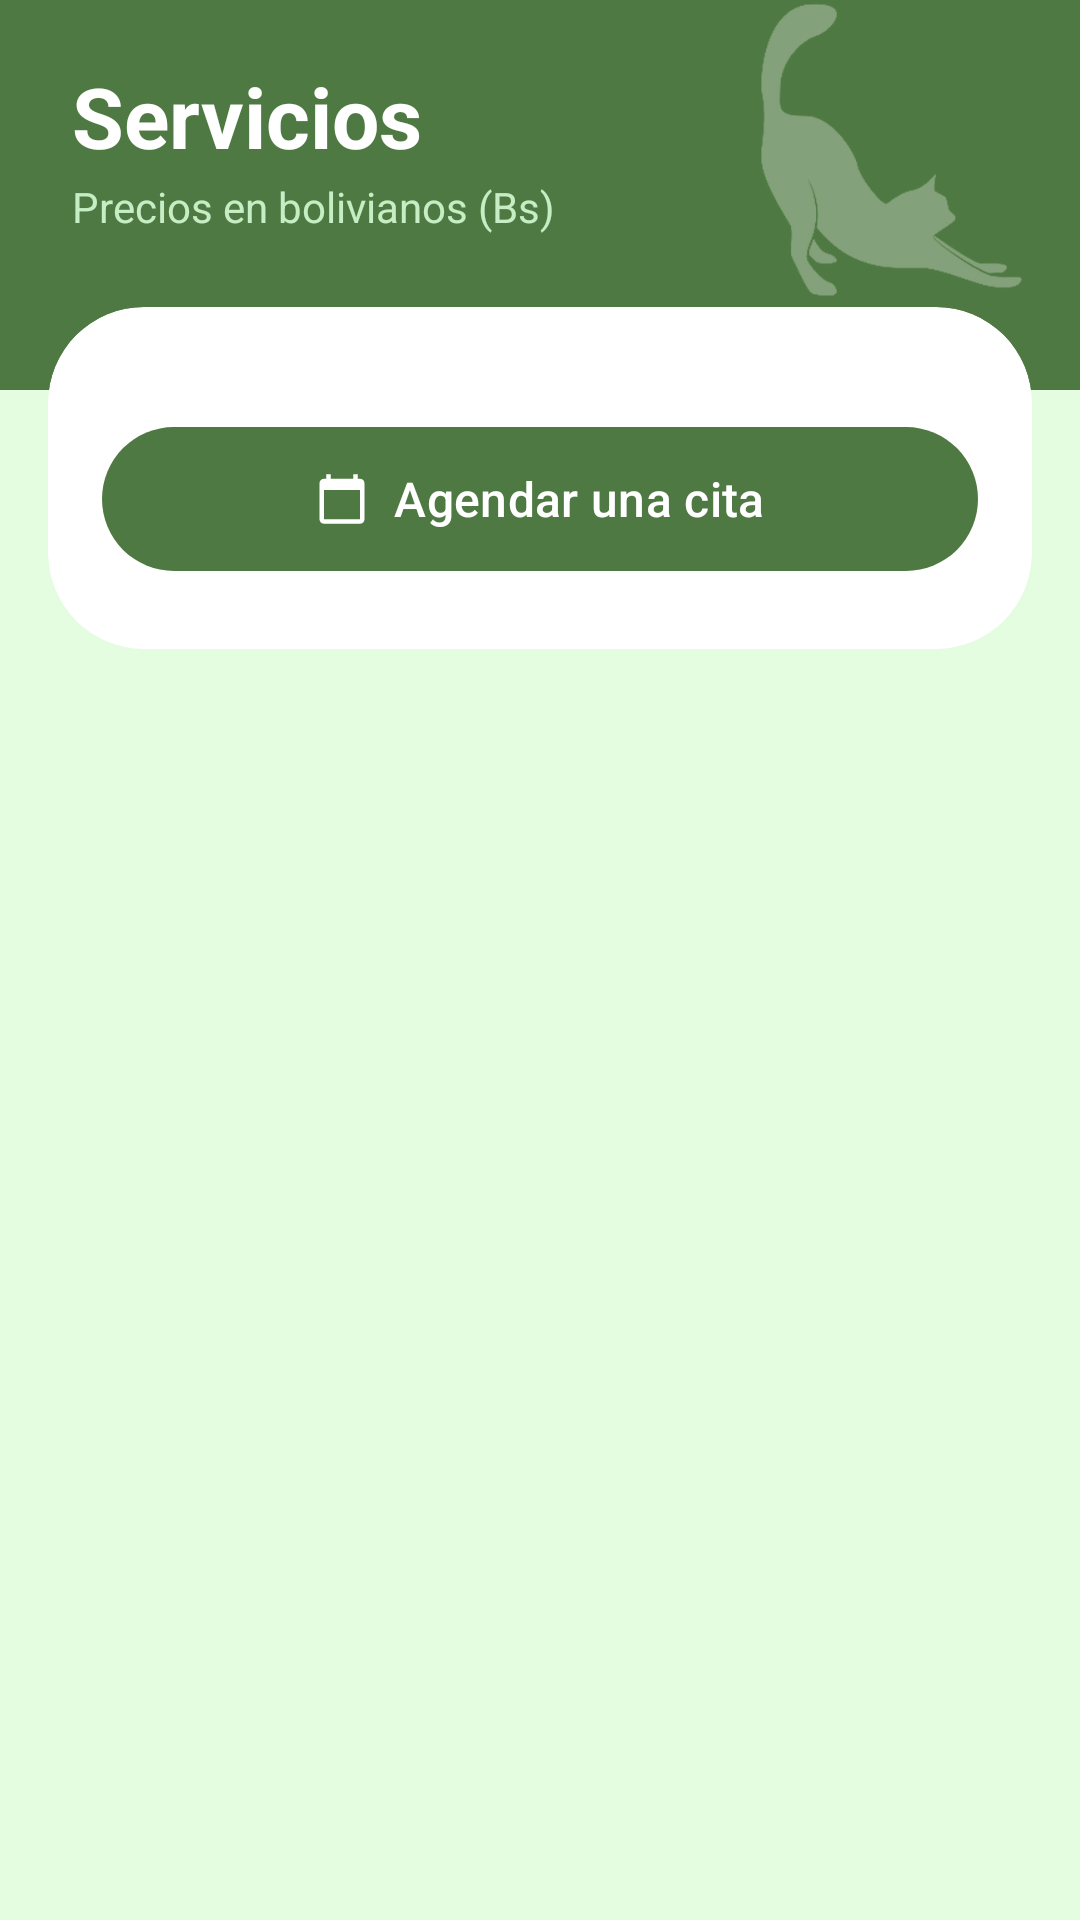

Locate icon controls on the screen. Image size 1080 × 1920, boxes as (x1, y1, x2, y2).
deco gato estirandose: (761, 4, 1022, 296)
